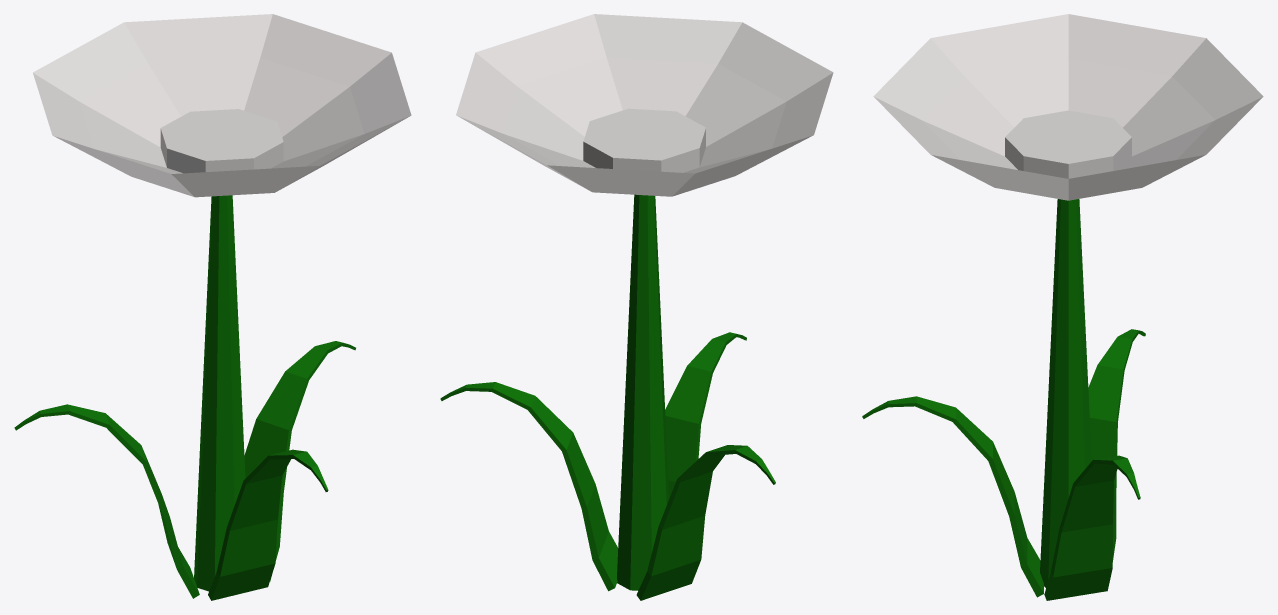
The model's file is flower.glb.
3 views of the same model, side by side, from view 1: azimuth 30°, elevation 25°; view 2: azimuth 150°, elevation 25°; view 3: azimuth 270°, elevation 25° (orthographic).
Parts seen in each view (by area): view 1: blossom, stem; view 2: blossom, stem; view 3: blossom, stem.
Part boxes in pixels (left/top/right/bottom): blossom: left=33, top=14, right=411, bottom=197; stem: left=14, top=195, right=355, bottom=600; blossom: left=456, top=14, right=833, bottom=196; stem: left=440, top=194, right=775, bottom=600; blossom: left=873, top=14, right=1263, bottom=200; stem: left=862, top=199, right=1145, bottom=600.
Size of the model in its own units: 0.3777 by 0.5196 by 0.3884.
